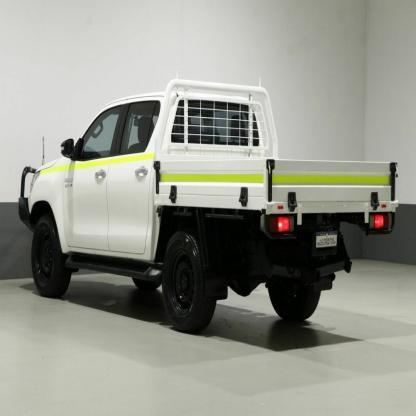light_vehicle: (16, 62, 400, 354)
